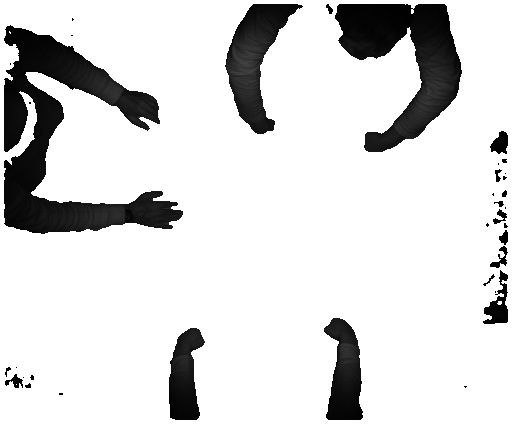fist: (320, 312, 356, 342), (177, 328, 207, 355), (360, 130, 388, 151)
hand: (134, 184, 183, 231), (123, 89, 159, 135)
